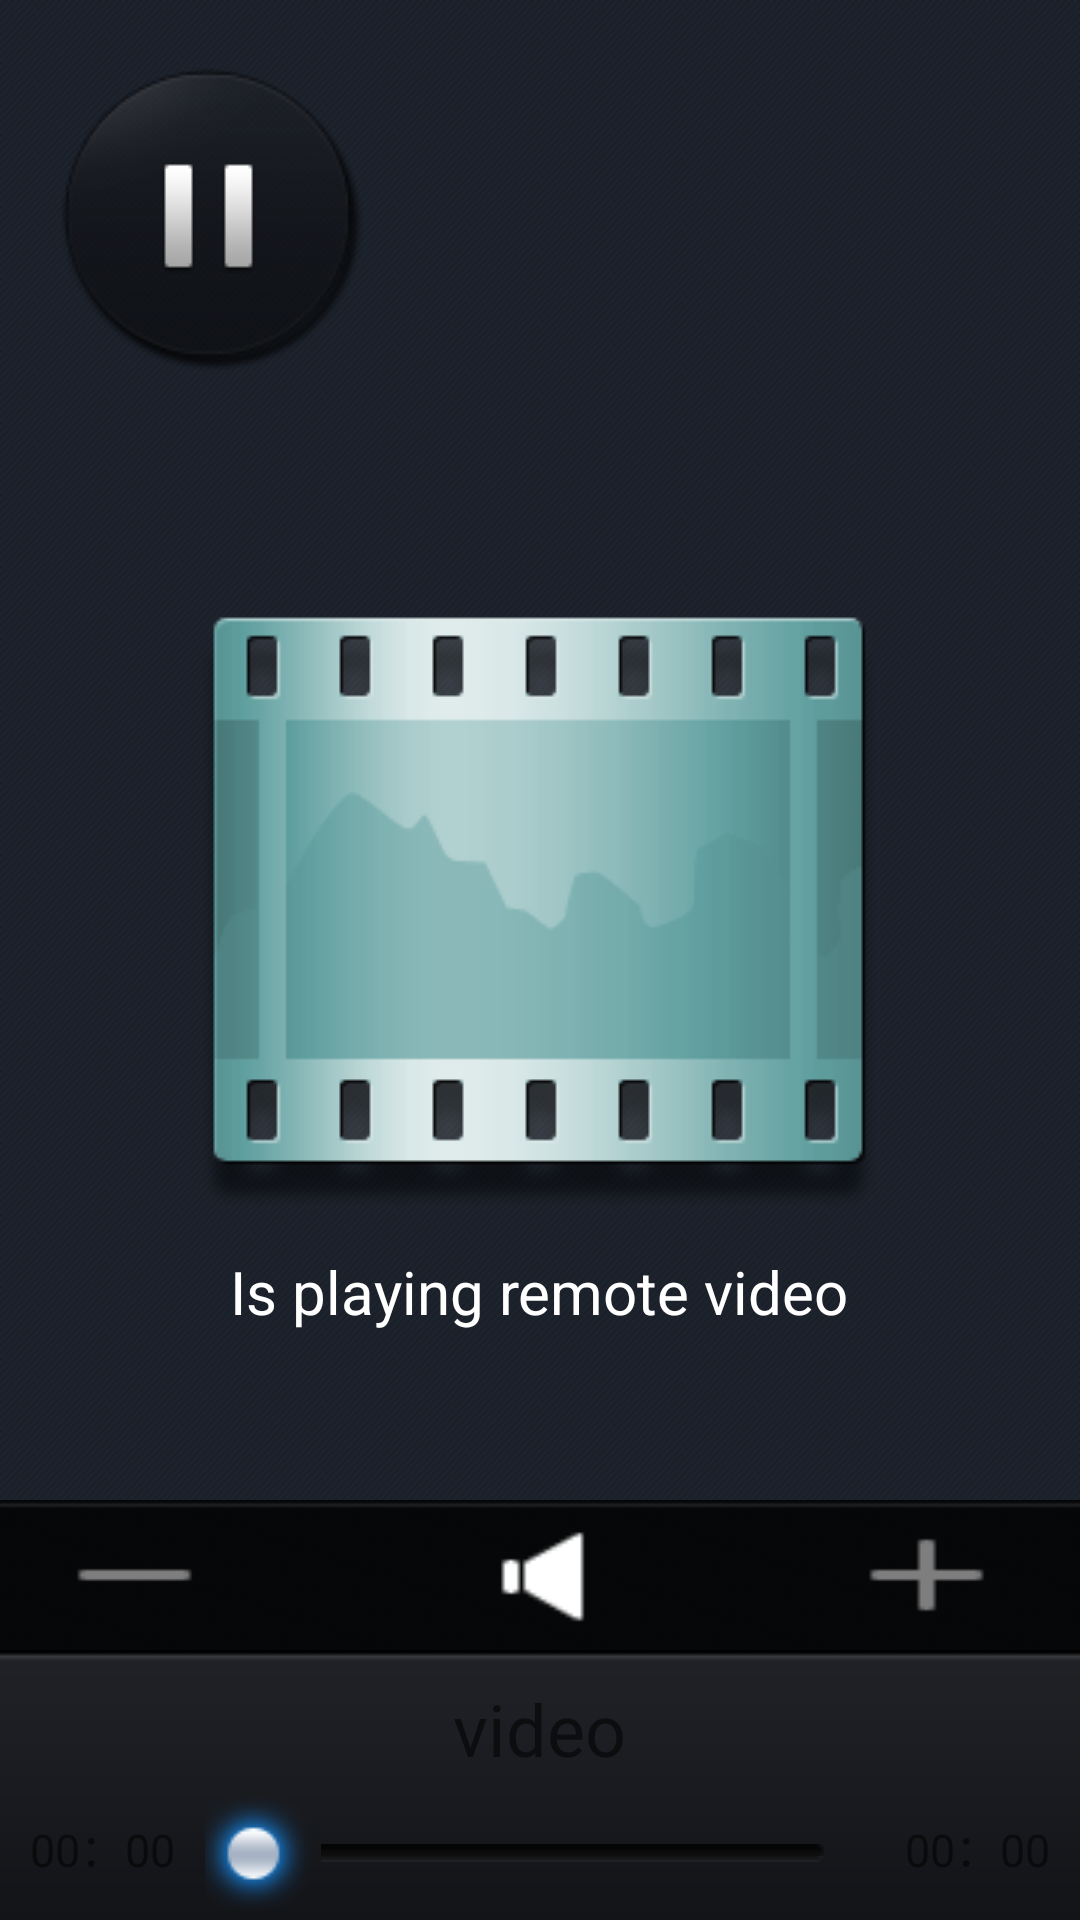

Named icons in this screenshot (1080 x 1920) and their bounding boxes, {"x1": x1, "y1": y1, "x2": x2, "y2": y2}:
music nomute: {"x1": 501, "y1": 1532, "x2": 584, "y2": 1621}
sound up: {"x1": 870, "y1": 1539, "x2": 984, "y2": 1611}
video pause: {"x1": 67, "y1": 73, "x2": 355, "y2": 364}
